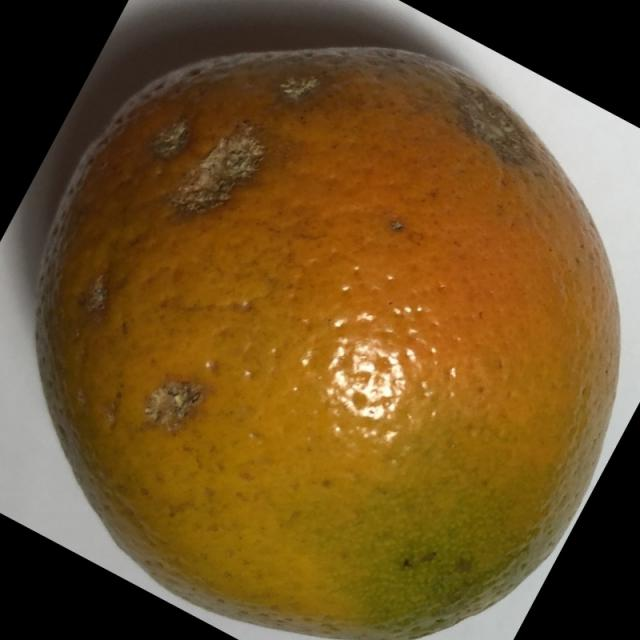canker: (52, 26, 633, 640)
